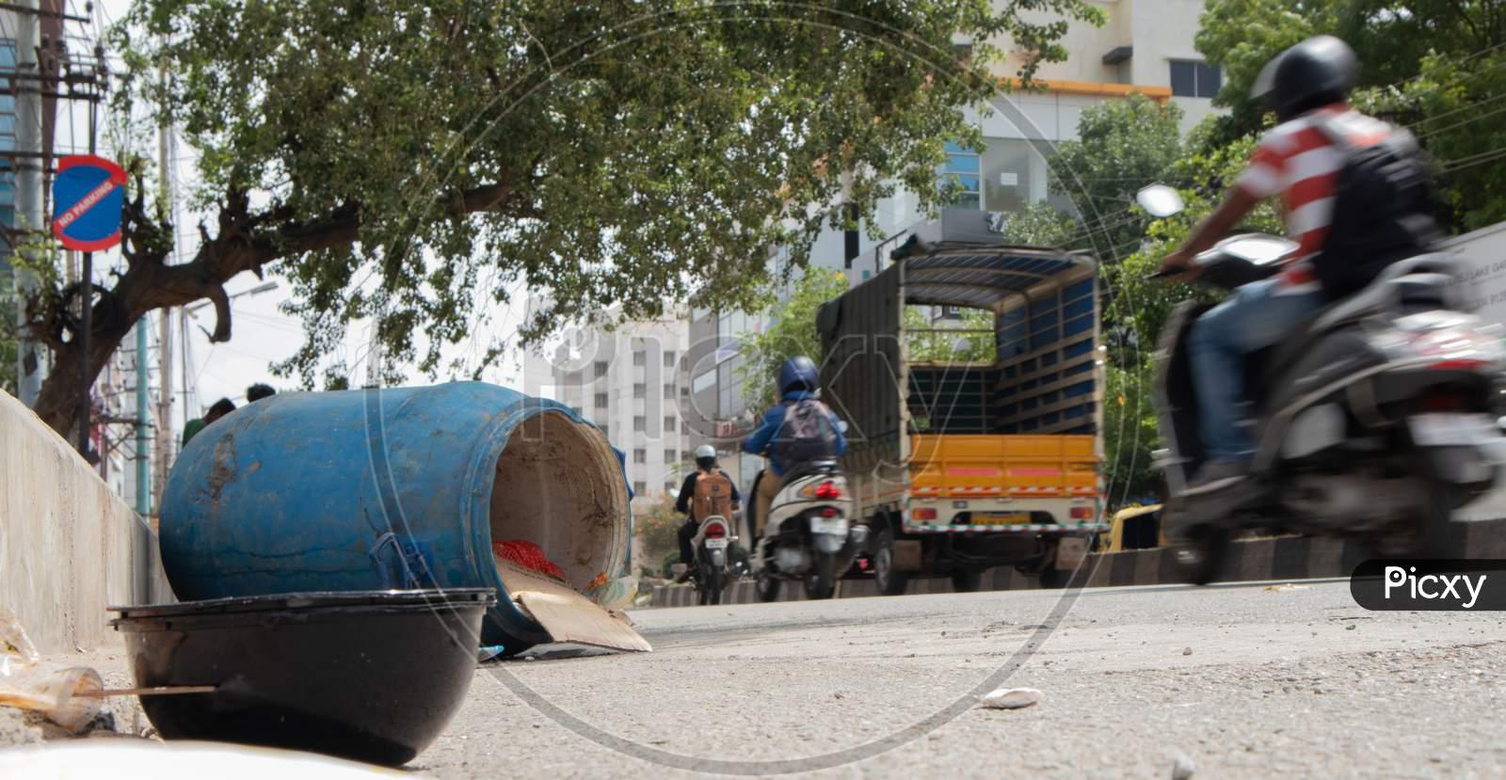road: (418, 579, 1506, 780)
